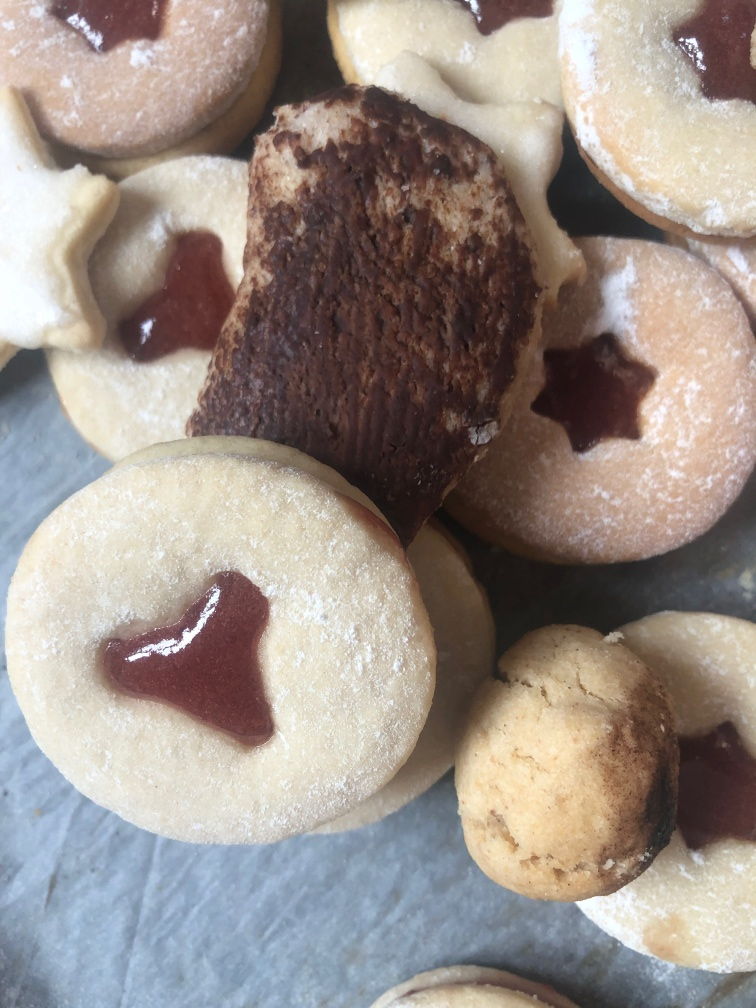christmas shortbread with jam: (1, 440, 437, 843), (440, 241, 756, 559), (45, 154, 294, 456), (565, 608, 756, 977), (565, 3, 756, 236), (1, 1, 274, 156)
snowball: (452, 625, 679, 906)
star: (1, 87, 120, 363)
weird #1: (189, 88, 537, 558)
